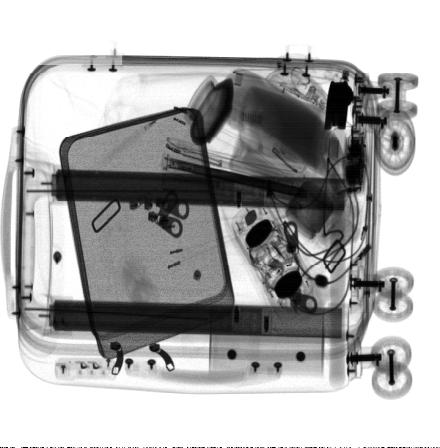Hammer: (324, 80, 355, 392)
